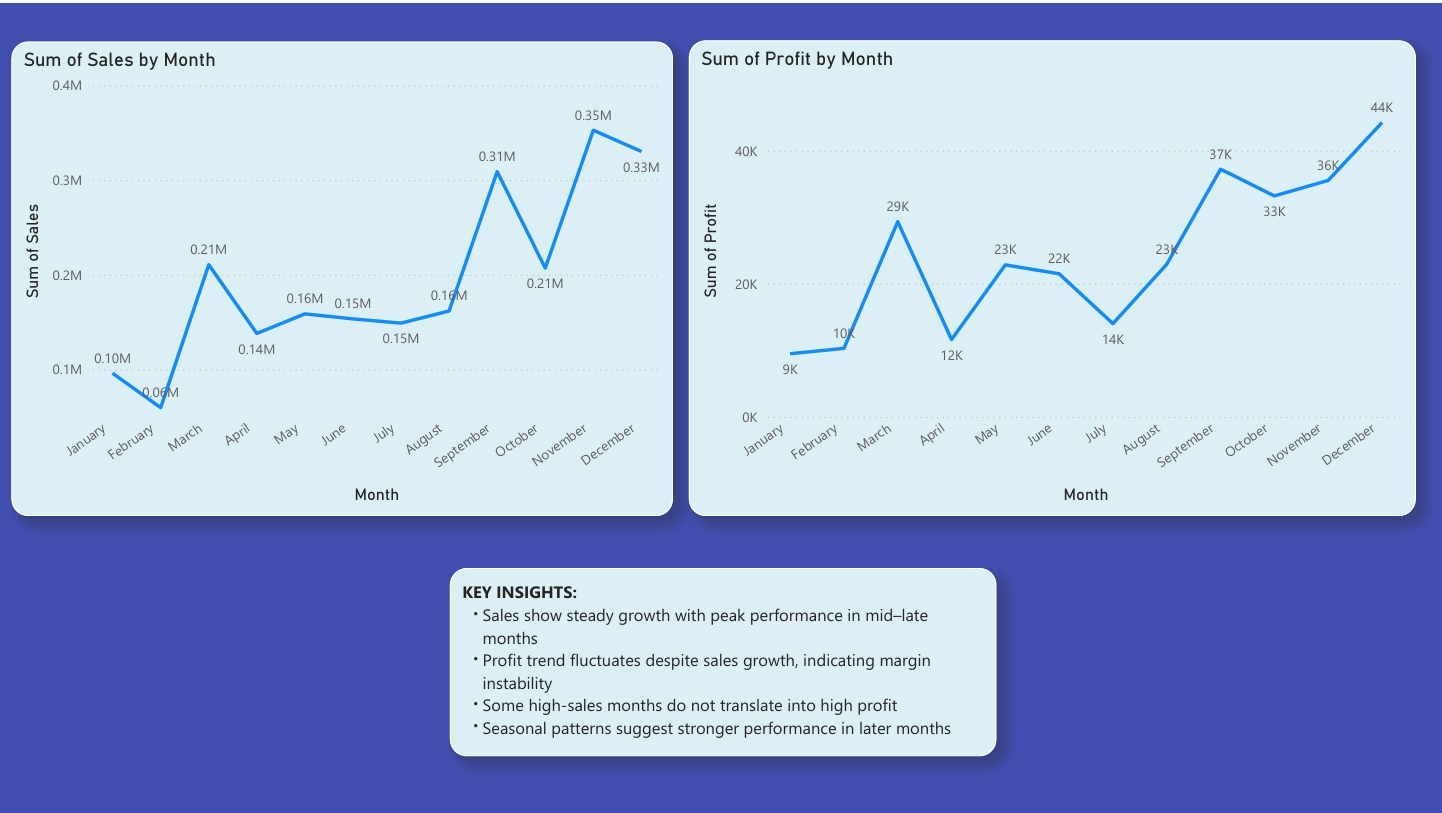

What the dashboard file says about the page in this screenshot:
{"tool":"powerbi","page":{"name":"Trends","canvas":[1280,720],"ordinal":1},"visuals":[{"type":"lineChart","fields":{"Category":["Superstore Sales Dataset.Order Date.Variation.Date Hierarchy.Month"],"Y":["Sum(Superstore Sales Dataset.Sales)"]},"box":[36.7,35,560,420],"z":0},{"type":"lineChart","fields":{"Category":["Superstore Sales Dataset.Order Date.Variation.Date Hierarchy.Month"],"Y":["Sum(Superstore Sales Dataset.Profit)"]},"box":[611.7,33.3,633.3,421.7],"z":1000},{"type":"textbox","box":[398.6,501.4,485.5,166.3],"z":2000}]}

Visuals, with their boxes in screenshot pixels (x1, y1, x2, y2), scaled from the page's 1280x720 canvas onto the 1442x813 screenshot:
lineChart - Superstore Sales Dataset.Order Date.Variation.Date Hierarchy.Month x Sum(Superstore Sales Dataset.Sales): (x1=41, y1=40, x2=672, y2=514)
lineChart - Superstore Sales Dataset.Order Date.Variation.Date Hierarchy.Month x Sum(Superstore Sales Dataset.Profit): (x1=689, y1=38, x2=1403, y2=514)
textbox: (x1=449, y1=566, x2=996, y2=754)
